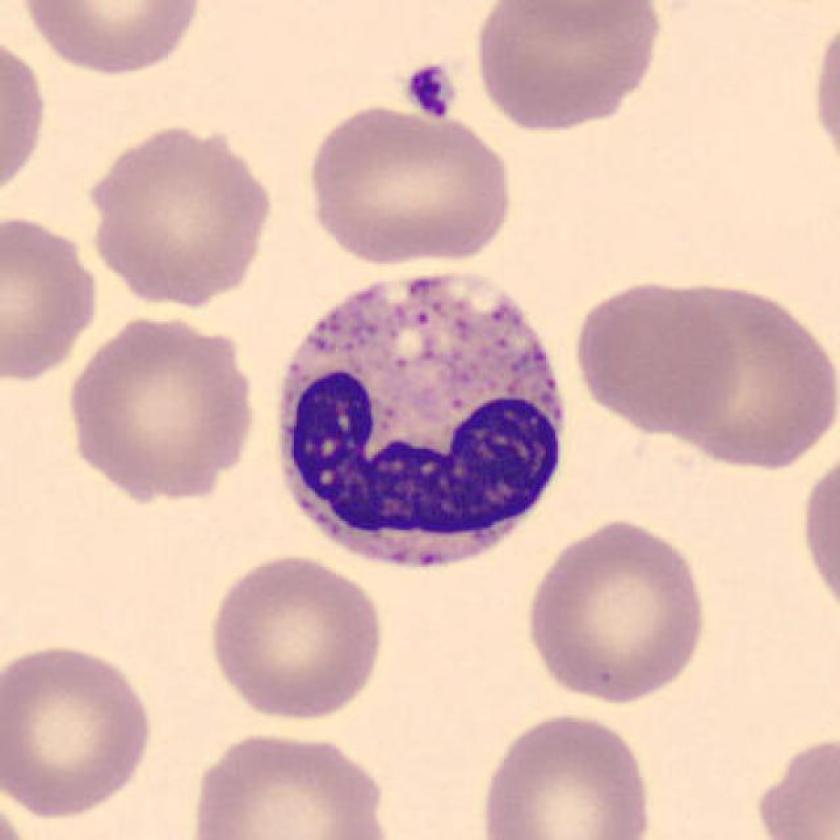neutrophil: (279, 281, 564, 567)
